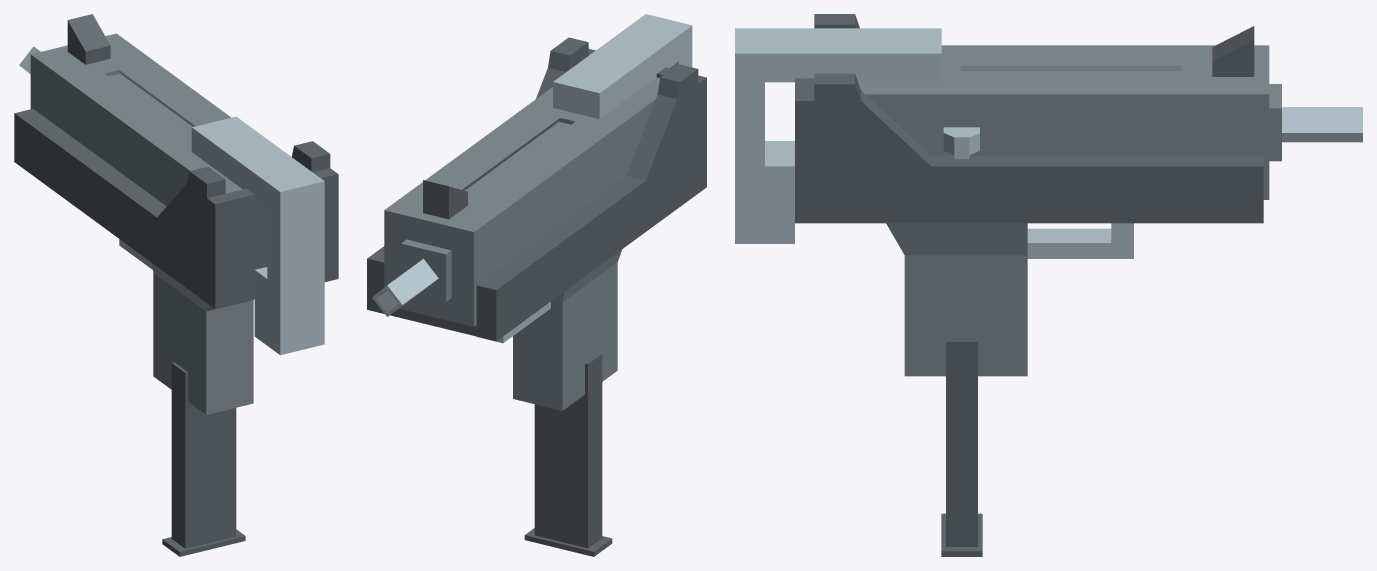
The model's file is uzi.glb.
3 renders of one model, left to right at view 1: azimuth 30°, elevation 25°; view 2: azimuth 150°, elevation 25°; view 3: azimuth 270°, elevation 25°, orthographic. The views are drawn at different scales.
Parts seen in each view (by area): view 1: body, mag; view 2: body, mag; view 3: body, mag, reloader.
Part boxes in pixels (x1=…): body: x1=14, y1=14, x2=338, y2=414; mag: x1=162, y1=362, x2=245, y2=556; body: x1=367, y1=14, x2=706, y2=410; mag: x1=524, y1=353, x2=612, y2=556; body: x1=735, y1=14, x2=1362, y2=376; mag: x1=941, y1=341, x2=982, y2=556; reloader: x1=943, y1=127, x2=979, y2=159.
Size of the model in its own units: 0.0847 by 0.2842 by 0.3196.
